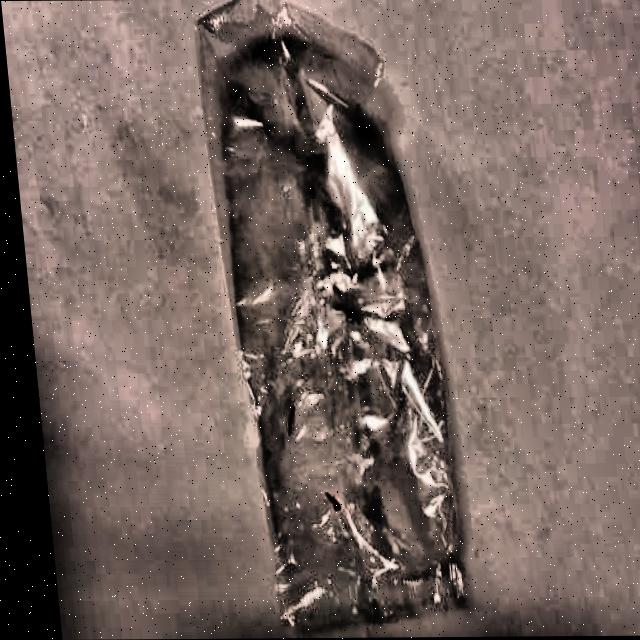trash: (206, 0, 481, 638)
